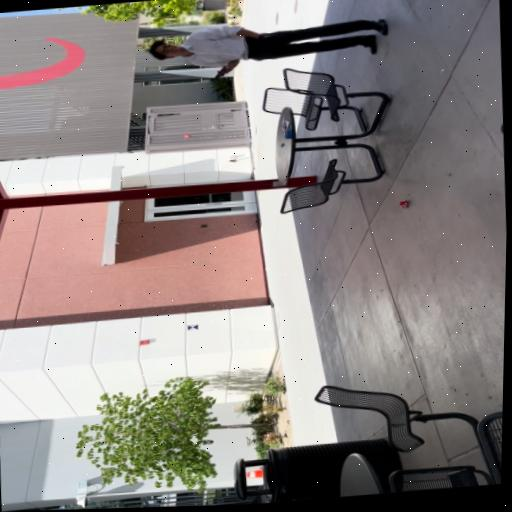target2: (187, 324, 199, 330)
